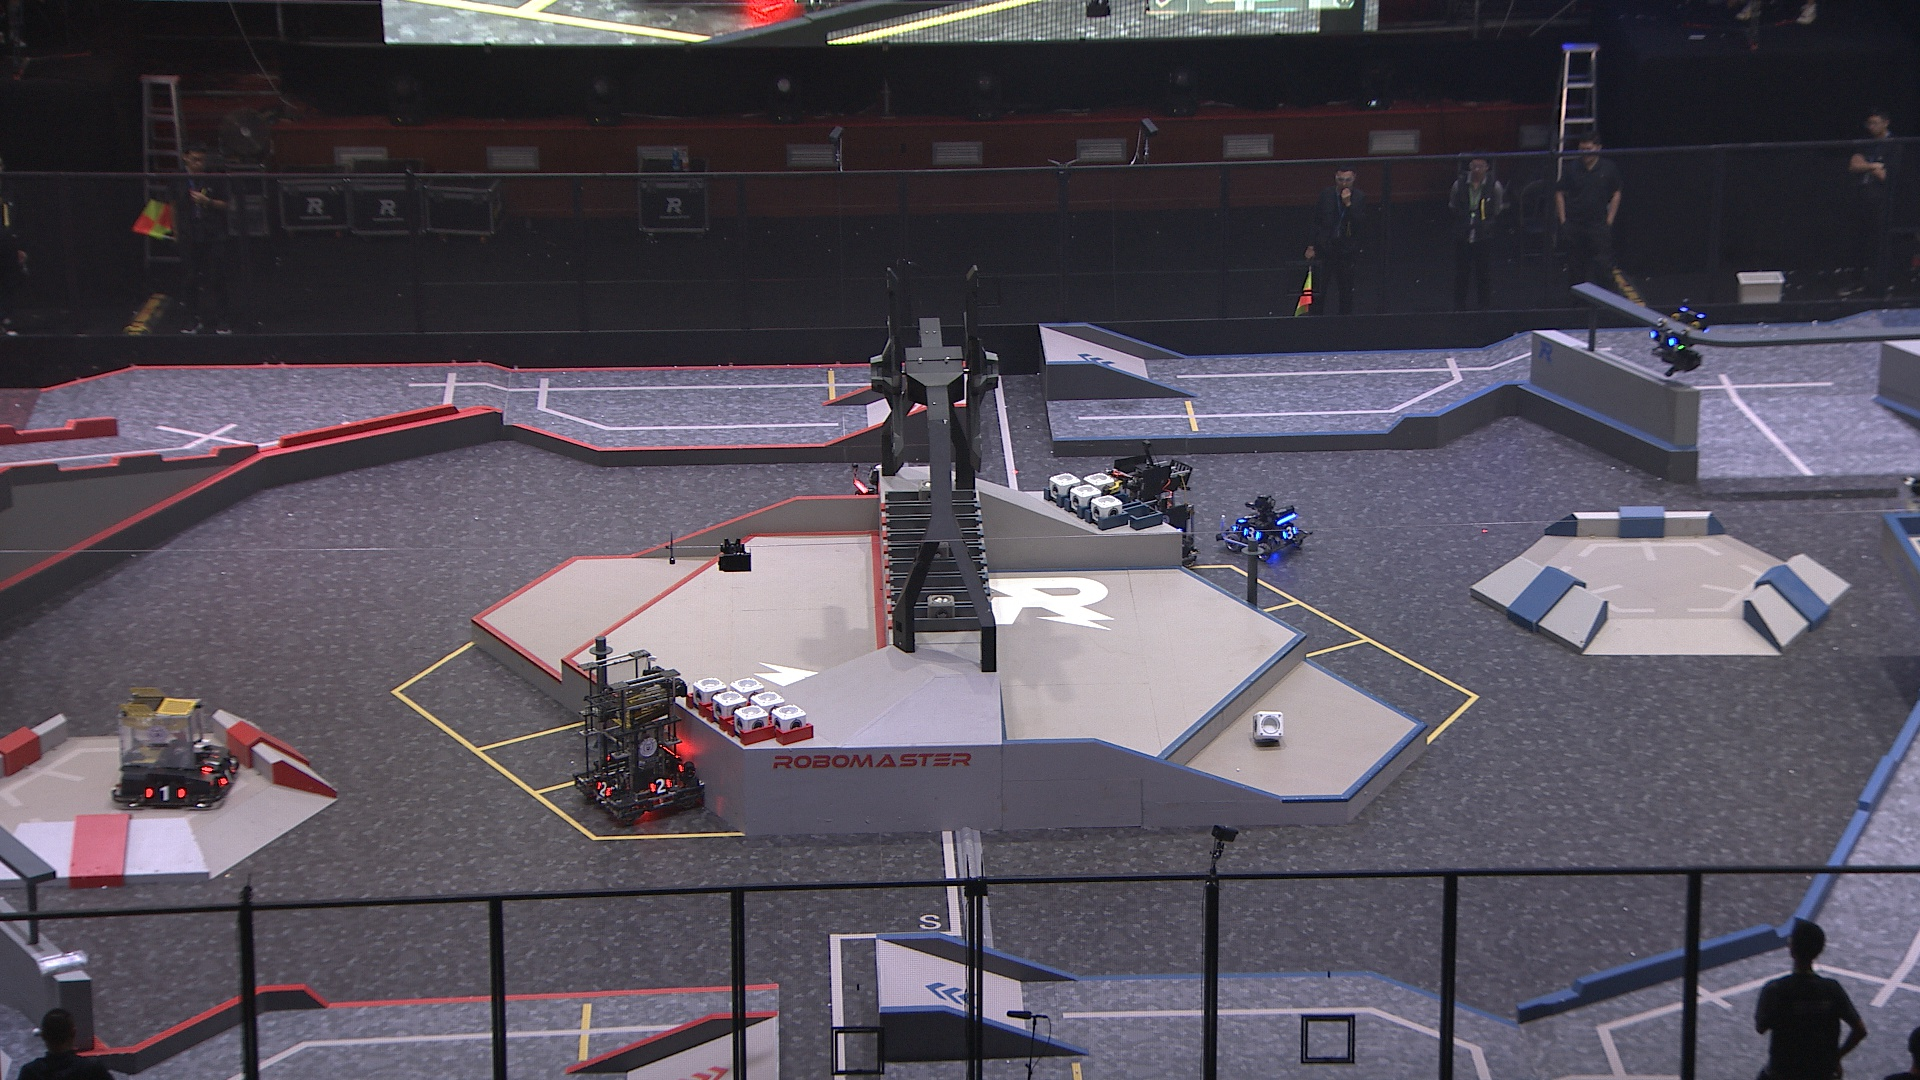armor: (142, 782, 189, 803), (1646, 327, 1677, 349), (647, 778, 679, 796), (200, 750, 223, 774), (216, 764, 237, 787), (1240, 526, 1262, 543), (593, 779, 612, 796), (1280, 524, 1298, 541), (1236, 510, 1257, 524)
car: (568, 647, 712, 828), (109, 684, 244, 814), (1095, 442, 1199, 576), (1215, 491, 1316, 562)
watcher: (1642, 295, 1714, 378)
